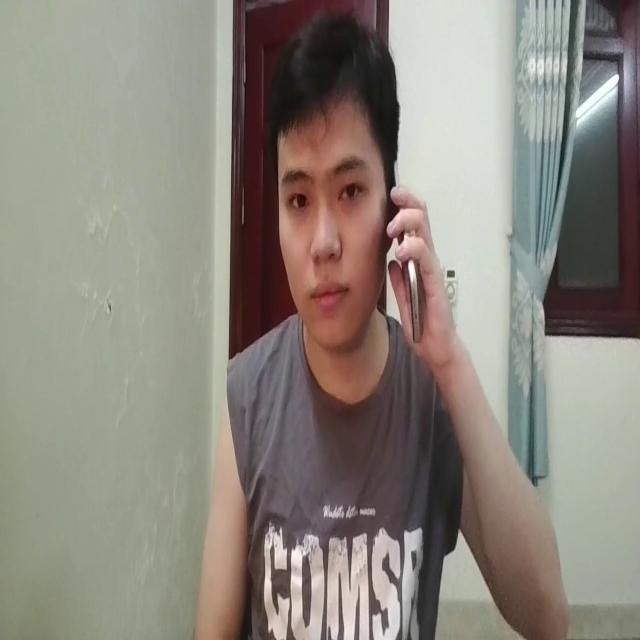phone: (388, 155, 423, 350)
student: (207, 9, 569, 640)
